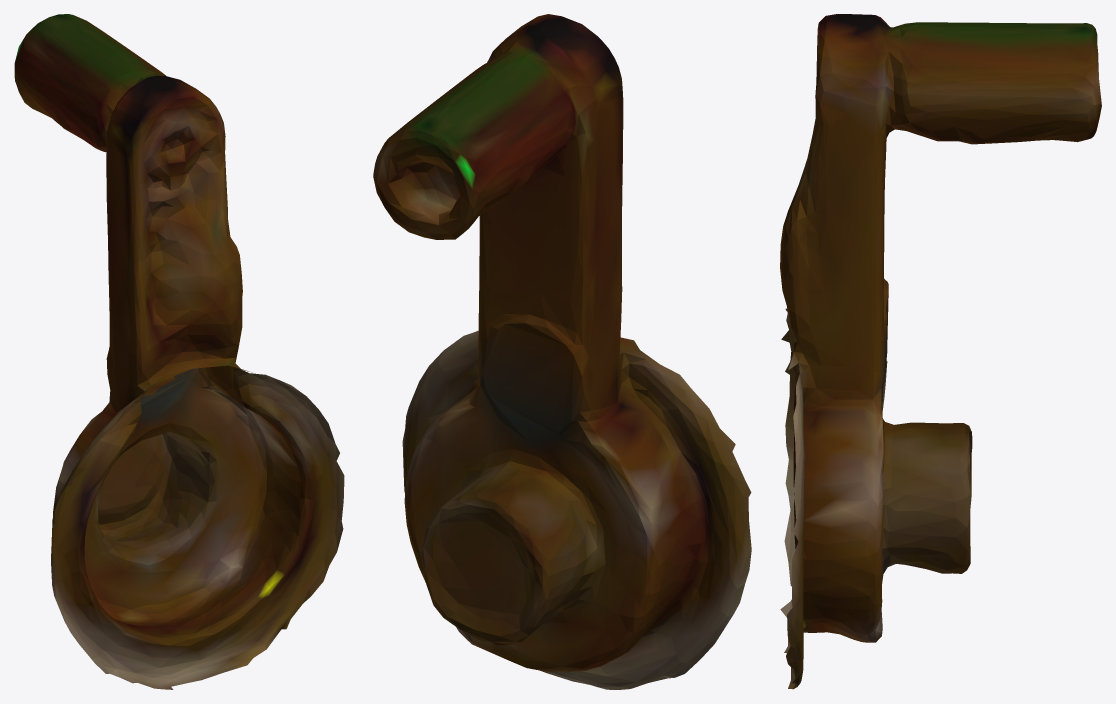
Rendered from scan.obj.
3 views of the same model, side by side, from view 1: azimuth 30°, elevation 25°; view 2: azimuth 150°, elevation 25°; view 3: azimuth 270°, elevation 25° (orthographic). The views are drawn at different scales.
Visible parts, largest first — view 1: scan.ply; view 2: scan.ply; view 3: scan.ply.
Part boxes in pixels (bbox=[...]): scan.ply: bbox=[14, 14, 344, 689]; scan.ply: bbox=[373, 14, 751, 689]; scan.ply: bbox=[780, 14, 1101, 689].
Size of the model in its own units: 0.0357 by 0.0675 by 0.0305.
